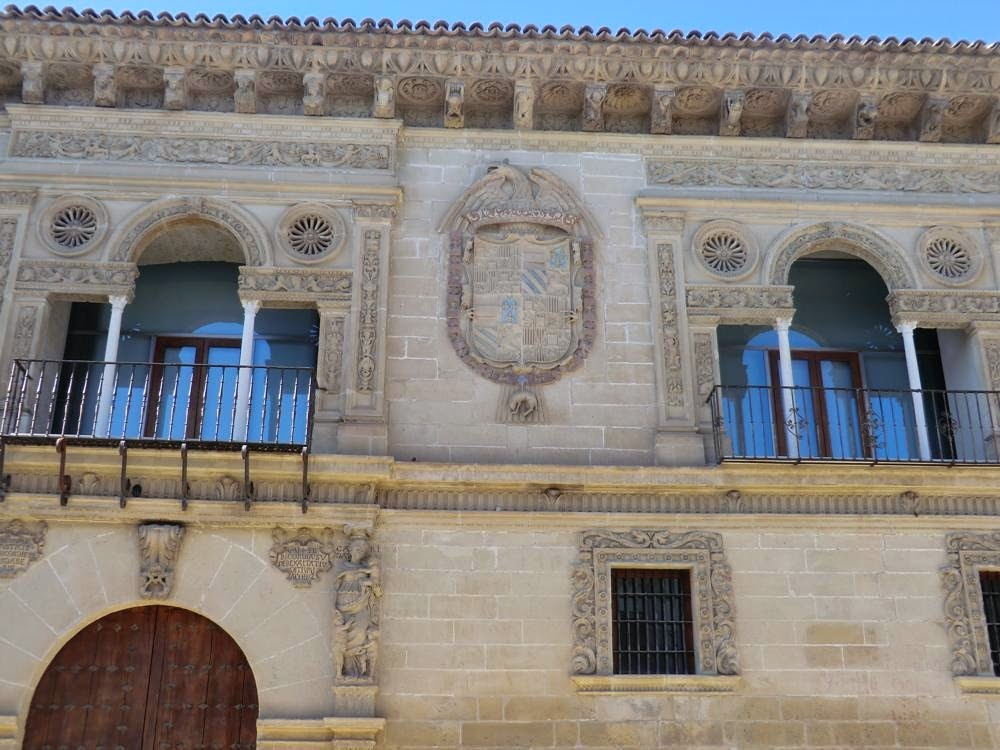arco-medio-punto: (8, 589, 279, 750)
serliana: (17, 183, 348, 458), (676, 210, 1000, 470)
